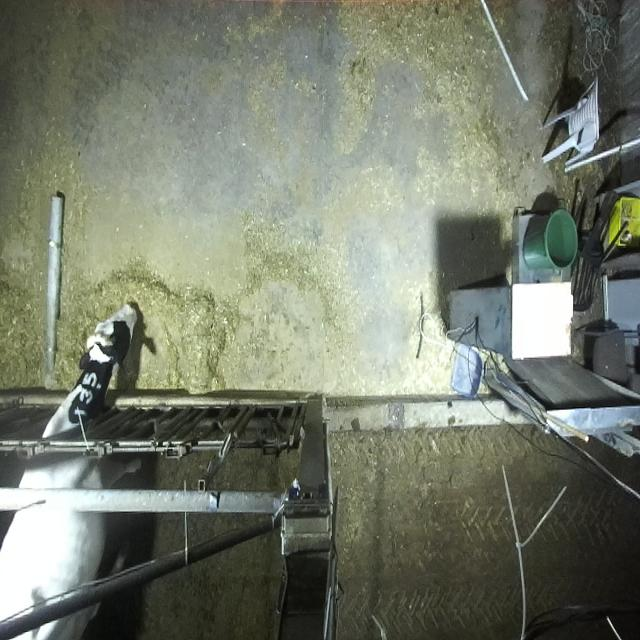cow: (77, 296, 138, 374)
